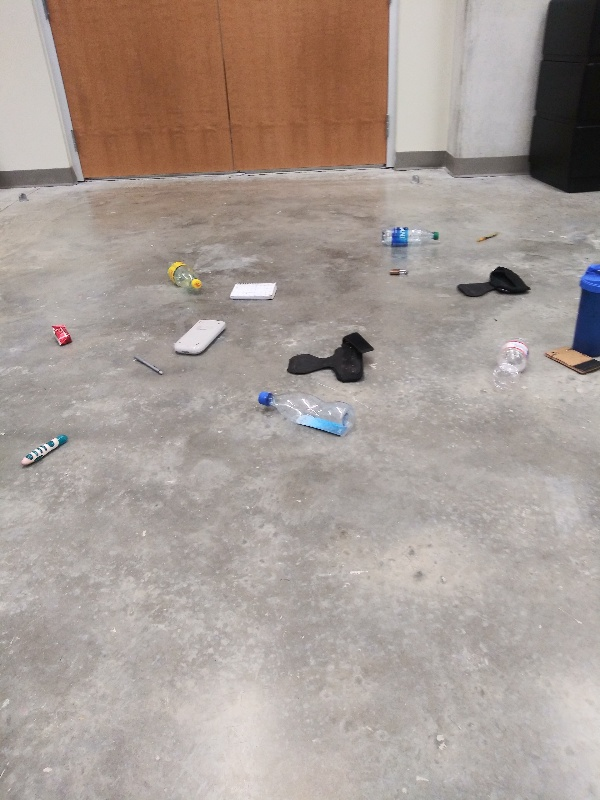bottle: (252, 384, 356, 441), (489, 331, 533, 393), (375, 223, 444, 252), (160, 259, 201, 295)
